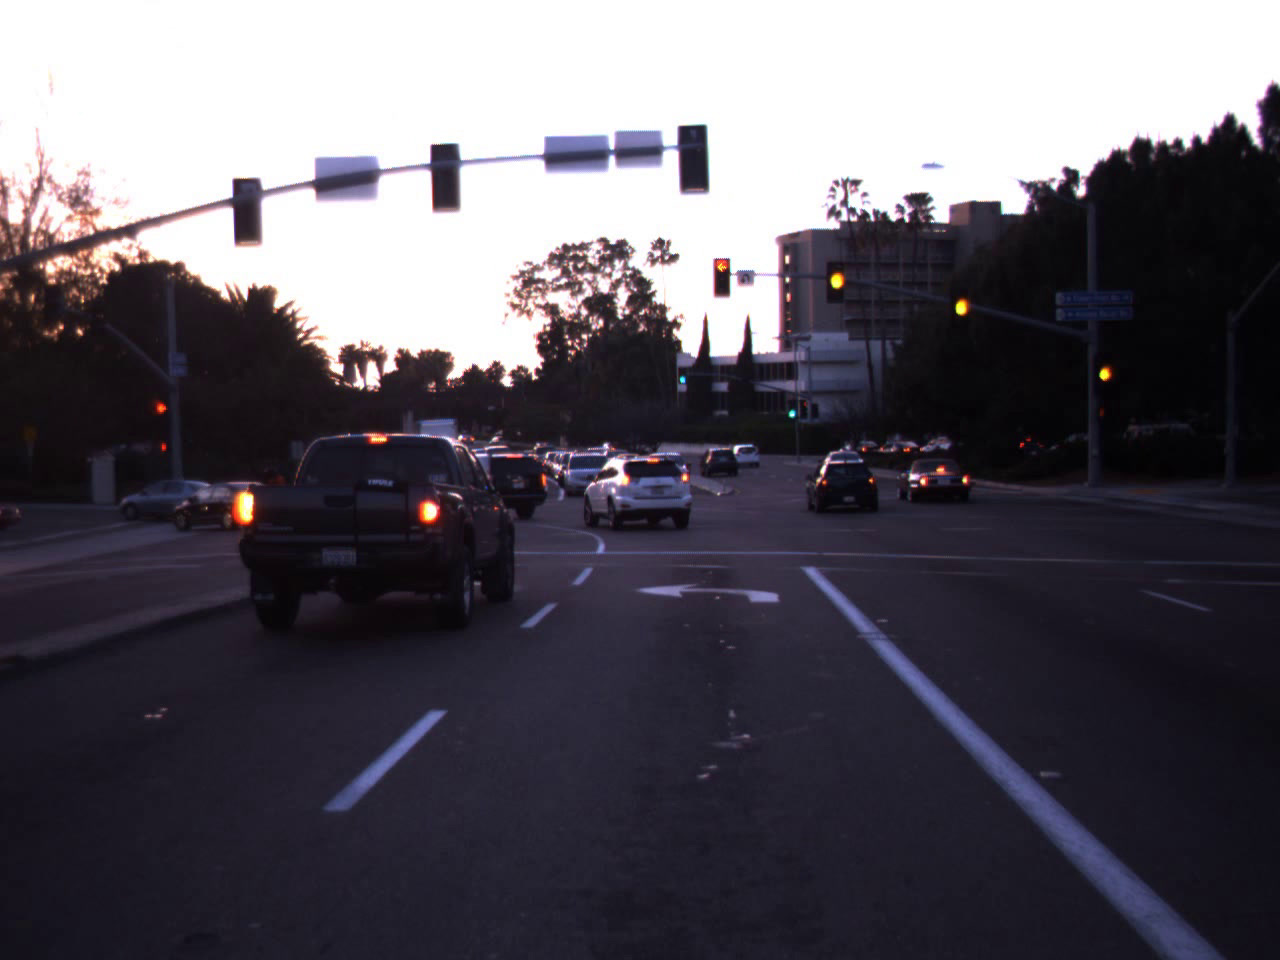go: (675, 364, 690, 384), (786, 396, 798, 416)
stop: (703, 256, 740, 292), (150, 400, 174, 436)
warning: (820, 246, 853, 309), (950, 270, 977, 337), (1091, 347, 1118, 396)
